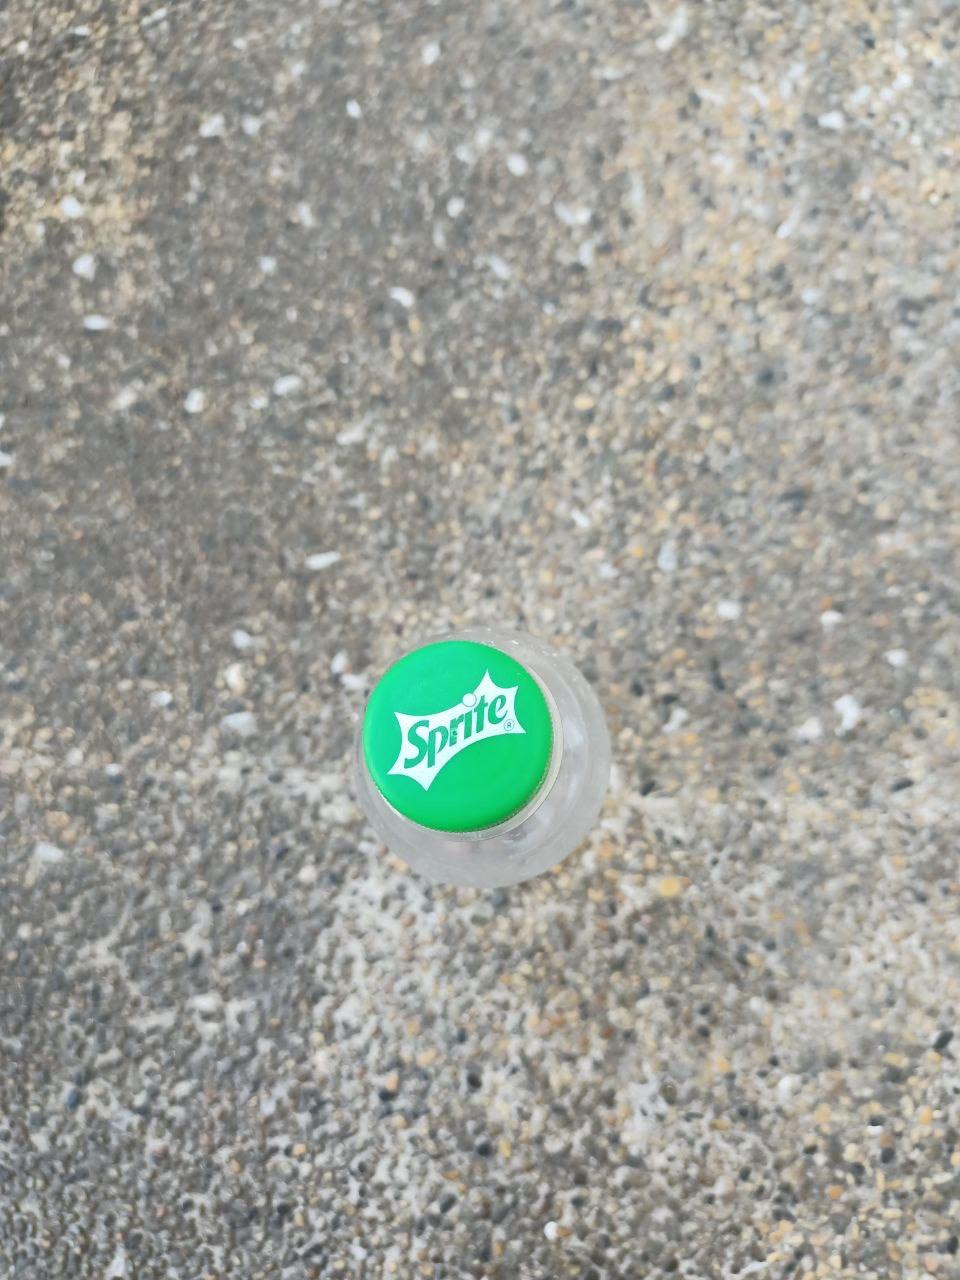plastic: (279, 583, 651, 969)
